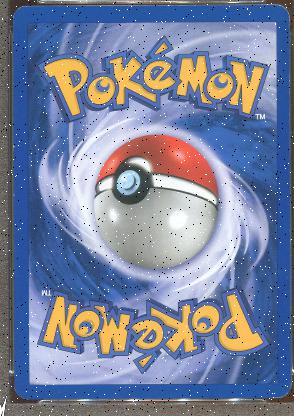Card: (10, 2, 292, 402)
Corner Wear: (268, 382, 291, 398)
